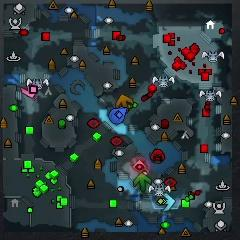p1: (109, 108, 125, 124)
x1: (22, 83, 36, 99)
x3: (160, 193, 175, 211)
x4: (134, 172, 151, 191)
x5: (115, 95, 133, 108)
